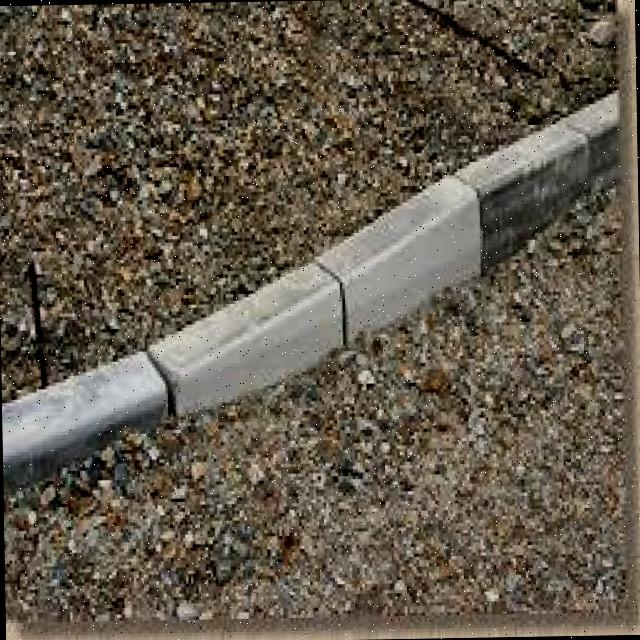curb: (1, 305, 226, 486), (242, 174, 411, 387), (425, 97, 607, 267)
